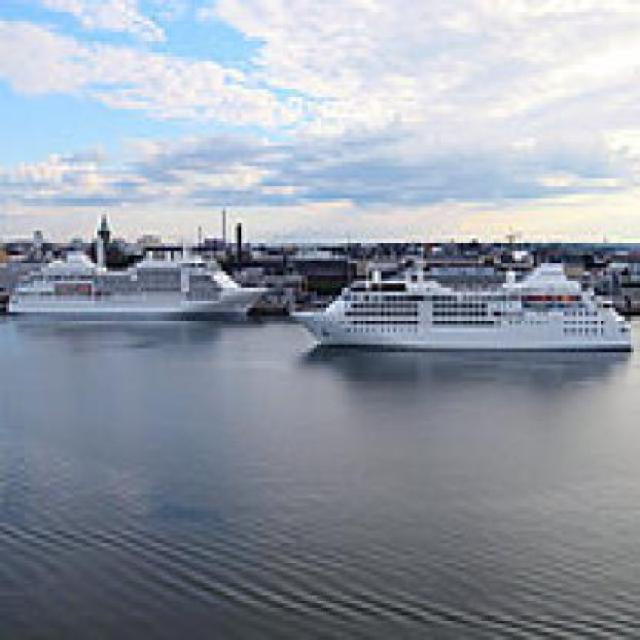cruise: (278, 252, 638, 370), (1, 222, 279, 330)
